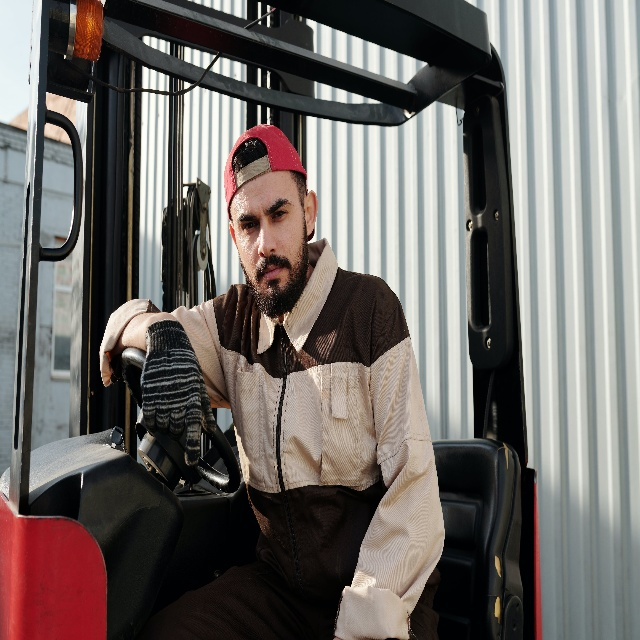Guantes: (142, 310, 217, 467)
